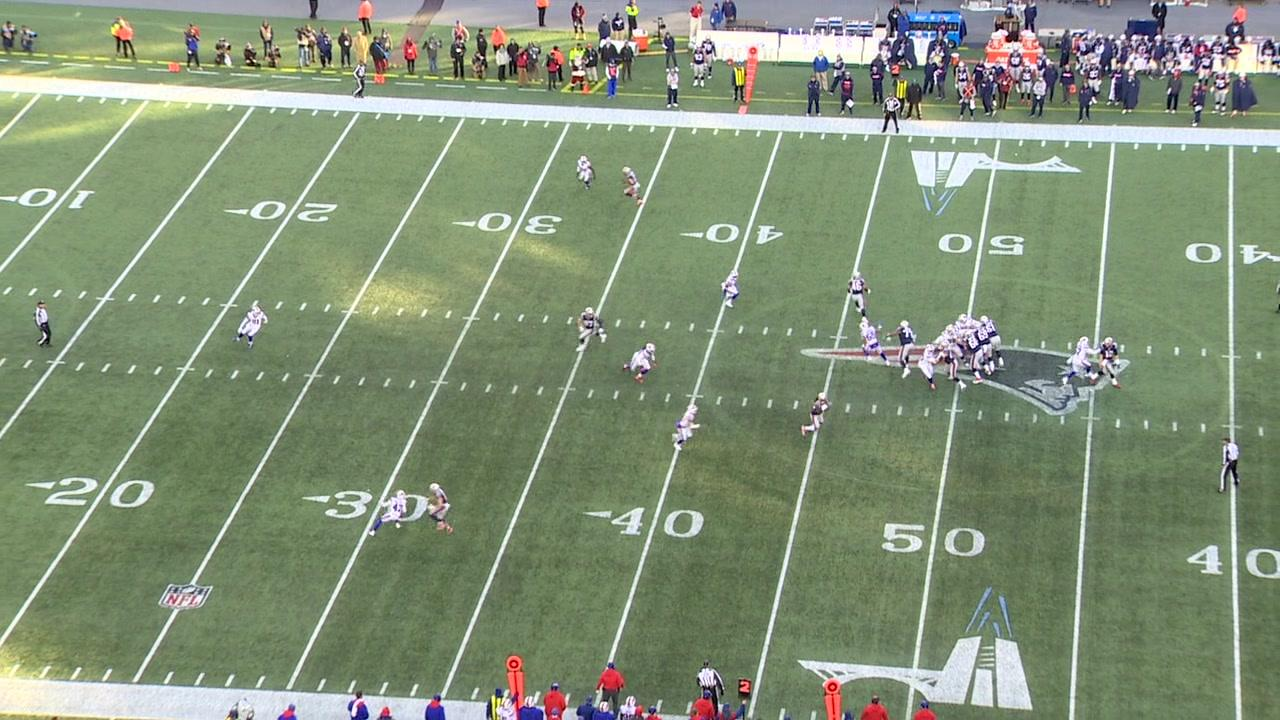defense: (372, 485, 412, 538), (669, 402, 707, 451), (1061, 336, 1095, 388), (232, 303, 269, 349), (622, 340, 662, 382), (716, 268, 748, 313), (856, 316, 886, 362), (568, 150, 599, 193), (936, 324, 967, 366), (916, 339, 938, 393), (956, 311, 981, 333)
oline: (893, 319, 917, 378), (961, 335, 984, 385), (984, 315, 1005, 369), (940, 341, 963, 389), (971, 327, 991, 379), (972, 312, 972, 313)
qb: (1096, 337, 1122, 397)
ref: (1215, 435, 1248, 492), (30, 296, 59, 358), (348, 62, 375, 103), (880, 91, 903, 135)
skill: (422, 480, 458, 541), (574, 301, 614, 349), (798, 392, 834, 442), (842, 268, 875, 309), (623, 163, 645, 209)
